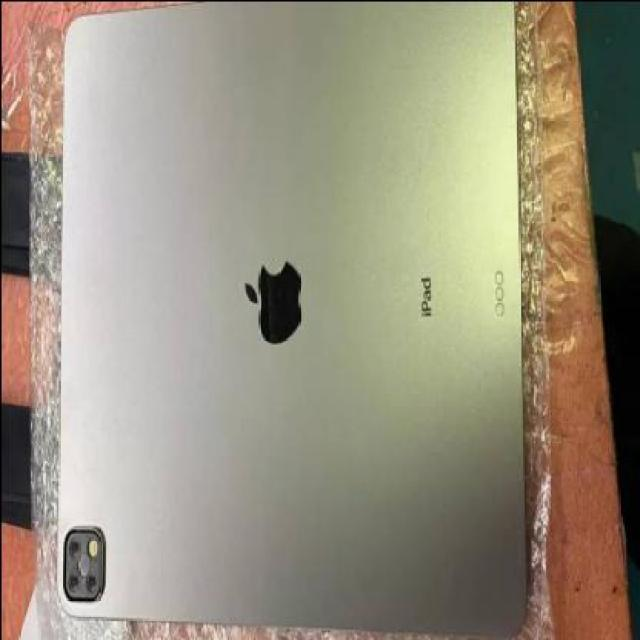tablet: (36, 5, 538, 638)
